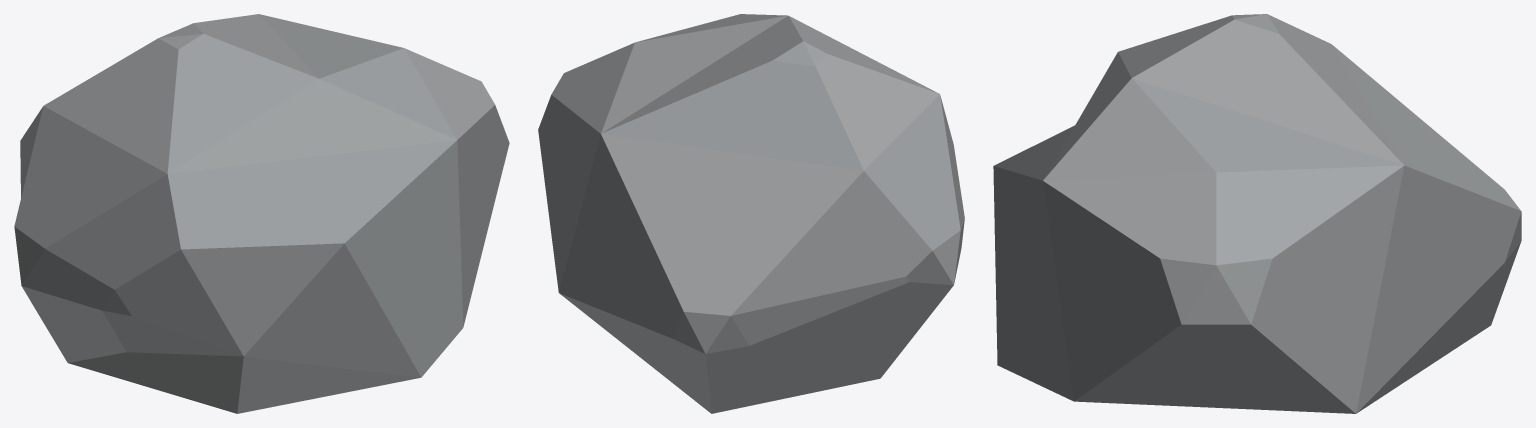
The model's file is smallrock_Texturedgamelabpal.fbx.
3 renders of one model, left to right at view 1: azimuth 30°, elevation 25°; view 2: azimuth 150°, elevation 25°; view 3: azimuth 270°, elevation 25°, orthographic. The views are drawn at different scales.
Parts seen in each view (by area): view 1: Icosphere.010; view 2: Icosphere.010; view 3: Icosphere.010.
Part boxes in pixels (box(x1,y1,x2,y2)): Icosphere.010: box(14, 14, 509, 413); Icosphere.010: box(538, 14, 964, 413); Icosphere.010: box(993, 14, 1521, 413).
Size of the model in its own units: 167 by 113 by 163.
